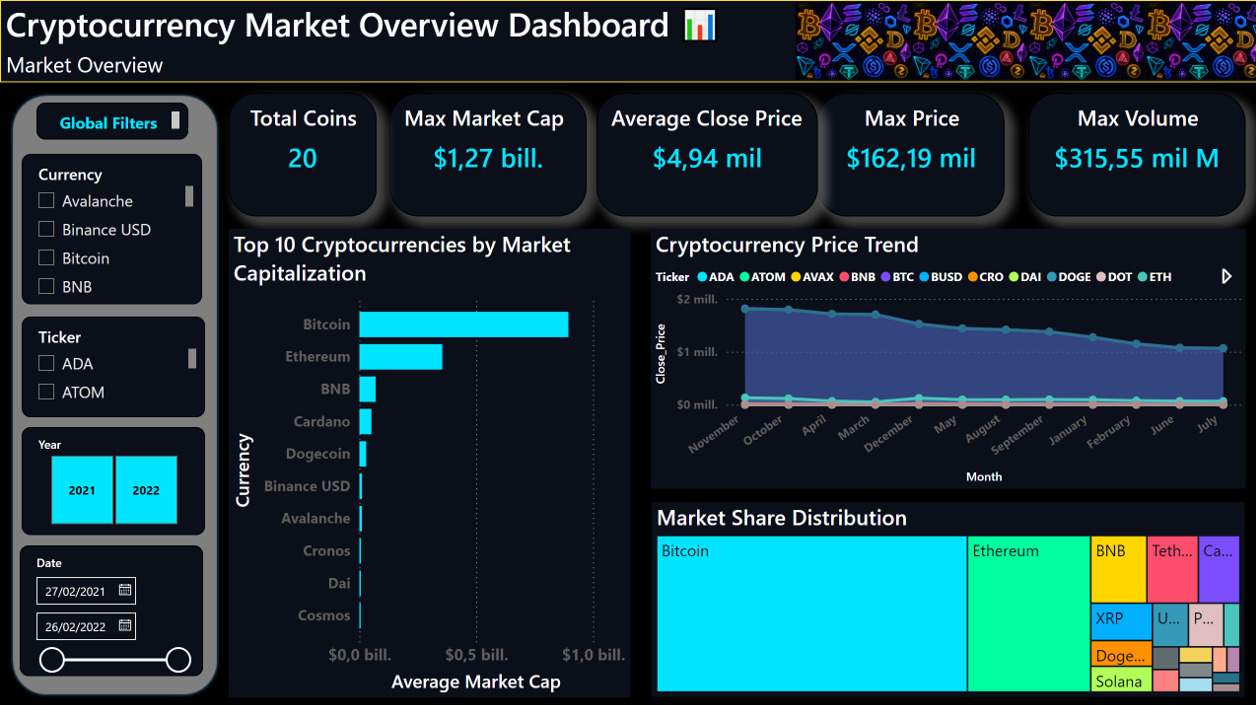

The dashboard page shown, as its layout file describes it:
{"tool":"powerbi","page":{"name":"MARKET OVERVIEW","canvas":[1280,720],"ordinal":0},"visuals":[{"type":"card","title":"Max Market Cap","fields":{"Values":["crypto_histoty.Max Market Cap"]},"box":[394.6,93.6,200.2,125.3],"z":0},{"type":"card","title":"Max Price","fields":{"Values":["crypto_histoty.Max Price"]},"box":[829.4,93.6,190.1,125.3],"z":1000},{"type":"card","title":"Max Volume","fields":{"Values":["crypto_histoty.Max Volume"]},"box":[1042.6,93.6,220.3,125.3],"z":2000},{"type":"card","title":"Total Coins","fields":{"Values":["crypto_histoty.Total Coins"]},"box":[231.8,93.6,149.8,125.3],"z":3000},{"type":"card","title":"Average Close Price","fields":{"Values":["crypto_histoty.Average Close Price"]},"box":[604.8,93.6,224.6,125.3],"z":4000},{"type":"lineChart","title":"Cryptocurrency Price Trend","fields":{"Category":["Calendar.Month Name"],"Y":["Sum(crypto_histoty.Close_price)"],"Series":["crypto_histoty.Ticker"]},"box":[659.5,231.8,603.4,263.5],"z":5000},{"type":"barChart","title":"Top 10 Cryptocurrencies by Market Capitalization","fields":{"Category":["crypto_histoty.Currency"],"Y":["crypto_histoty.Average Market Cap"]},"box":[231.8,231.8,407.5,475.2],"z":6000},{"type":"treemap","title":"Market Share Distribution","fields":{"Group":["crypto_histoty.Currency"],"Values":["Sum(crypto_histoty.Market_cap)"]},"box":[660.6,508.8,601.7,197.6],"z":7000},{"type":"slicer","fields":{"Values":["crypto_history.Currency"]},"box":[21.6,155.5,182.9,152.6],"z":8000},{"type":"slicer","fields":{"Values":["Calendar.Year"]},"box":[21.6,433.4,185.8,109.4],"z":9000},{"type":"slicer","fields":{"Values":["Calendar.Date"]},"box":[20.2,553,185.8,132.5],"z":10000},{"type":"slicer","fields":{"Values":["crypto_history.Ticker"]},"box":[21.6,321.1,185.8,102.2],"z":11000},{"type":"textbox","title":"Cryptocurrency Market Overview Dashboard 📊","box":[0,0,1278.3,83.3],"z":12000},{"type":"textbox","box":[37.4,103.7,154.1,37.4],"z":13000},{"type":"image","box":[1162.1,0,117.9,82.7],"z":14000},{"type":"image","box":[1042.7,0,117.9,82.7],"z":15000},{"type":"image","box":[924.8,0,117.9,82.7],"z":16000},{"type":"image","box":[806.9,0,117.9,82.7],"z":17000}]}

Visuals, with their boxes in screenshot pixels (x1, y1, x2, y2), scaled from the page's 1280x720 canvas onto the 1256x705 screenshot:
"Max Market Cap" card: (x1=387, y1=92, x2=584, y2=214)
"Max Price" card: (x1=814, y1=92, x2=1000, y2=214)
"Max Volume" card: (x1=1023, y1=92, x2=1239, y2=214)
"Total Coins" card: (x1=227, y1=92, x2=374, y2=214)
"Average Close Price" card: (x1=593, y1=92, x2=814, y2=214)
"Cryptocurrency Price Trend" lineChart: (x1=647, y1=227, x2=1239, y2=485)
"Top 10 Cryptocurrencies by Market Capitalization" barChart: (x1=227, y1=227, x2=627, y2=692)
"Market Share Distribution" treemap: (x1=648, y1=498, x2=1239, y2=692)
slicer - crypto_history.Currency: (x1=21, y1=152, x2=201, y2=302)
slicer - Calendar.Year: (x1=21, y1=424, x2=204, y2=531)
slicer - Calendar.Date: (x1=20, y1=541, x2=202, y2=671)
slicer - crypto_history.Ticker: (x1=21, y1=314, x2=204, y2=414)
"Cryptocurrency Market Overview Dashboard 📊" textbox: (x1=0, y1=0, x2=1254, y2=82)
textbox: (x1=37, y1=102, x2=188, y2=138)
image: (x1=1140, y1=0, x2=1255, y2=81)
image: (x1=1023, y1=0, x2=1139, y2=81)
image: (x1=907, y1=0, x2=1023, y2=81)
image: (x1=792, y1=0, x2=907, y2=81)
